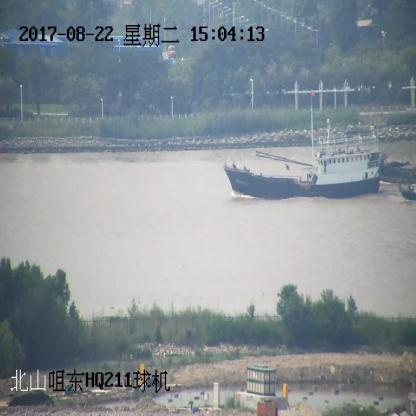Fishing Boat: (224, 92, 382, 200), (378, 154, 415, 185), (399, 183, 416, 200)
